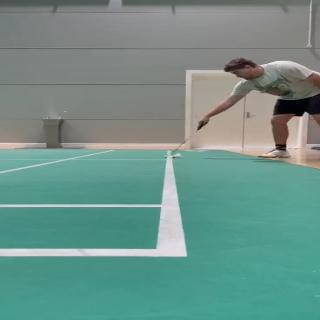Shuttle: (170, 153, 182, 158)
